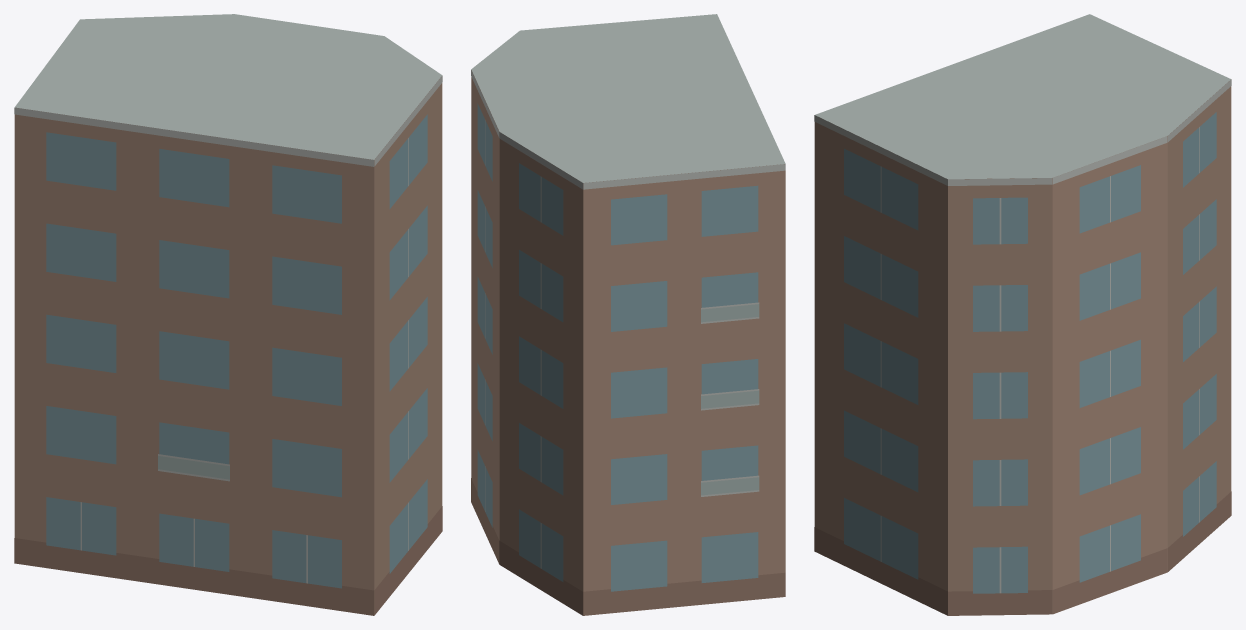
Rendered from survey-upis-32997782.glb.
3 renders of one model, left to right at view 1: azimuth 30°, elevation 25°; view 2: azimuth 150°, elevation 25°; view 3: azimuth 270°, elevation 25°, orthographic. The views are drawn at different scales.
Parts seen in each view (by area): view 1: survey-upis-32997782.tmp; view 2: survey-upis-32997782.tmp; view 3: survey-upis-32997782.tmp.
Boxes of the visible parts, box(x1,y1,x2,y2) form: survey-upis-32997782.tmp: box(14, 14, 442, 615); survey-upis-32997782.tmp: box(471, 14, 785, 615); survey-upis-32997782.tmp: box(814, 14, 1231, 615).
Bounding box in the file's own units: 12.85 × 15.8 × 13.68.
